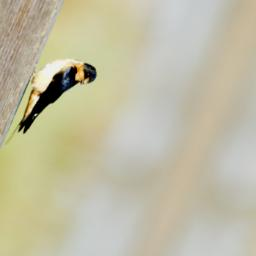Swallow: (0, 49, 102, 161)
